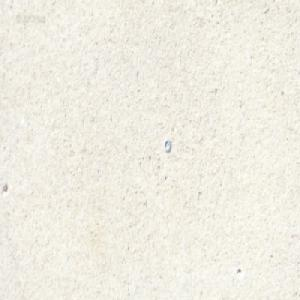Washer: (163, 139, 171, 154)
